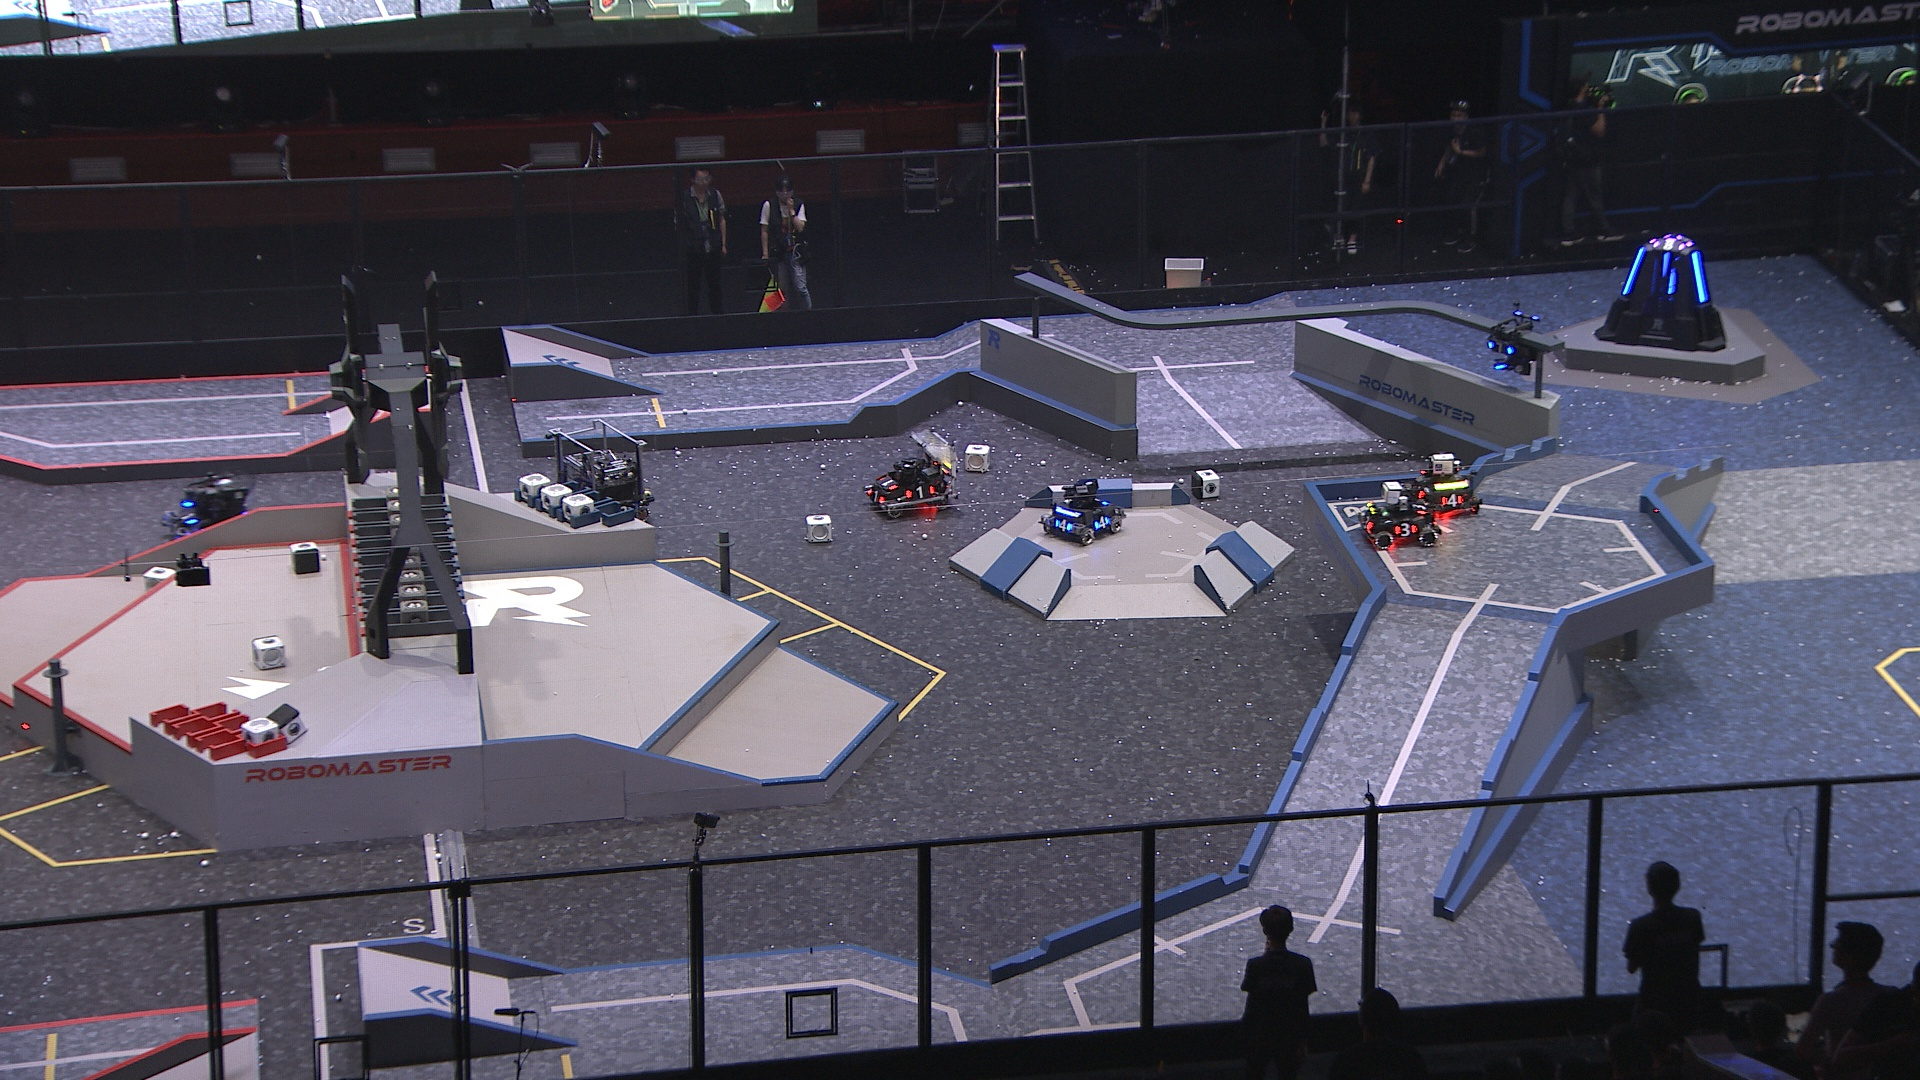armor: (1622, 247, 1646, 297), (1689, 249, 1708, 302), (901, 484, 936, 501), (1485, 342, 1515, 357), (1439, 493, 1465, 509), (1408, 501, 1429, 518), (178, 509, 199, 526), (1393, 524, 1416, 538), (1358, 514, 1375, 533), (866, 489, 885, 506), (1662, 251, 1673, 277), (1054, 517, 1073, 533), (877, 476, 898, 491), (1095, 514, 1112, 531), (1665, 266, 1675, 294)
base: (1592, 233, 1727, 353)
car: (549, 419, 655, 522), (860, 429, 961, 520), (160, 473, 253, 549), (1036, 475, 1126, 545), (1358, 479, 1443, 547), (1406, 451, 1482, 520)
ignore: (1651, 235, 1688, 251)
watcher: (1484, 299, 1542, 376)
